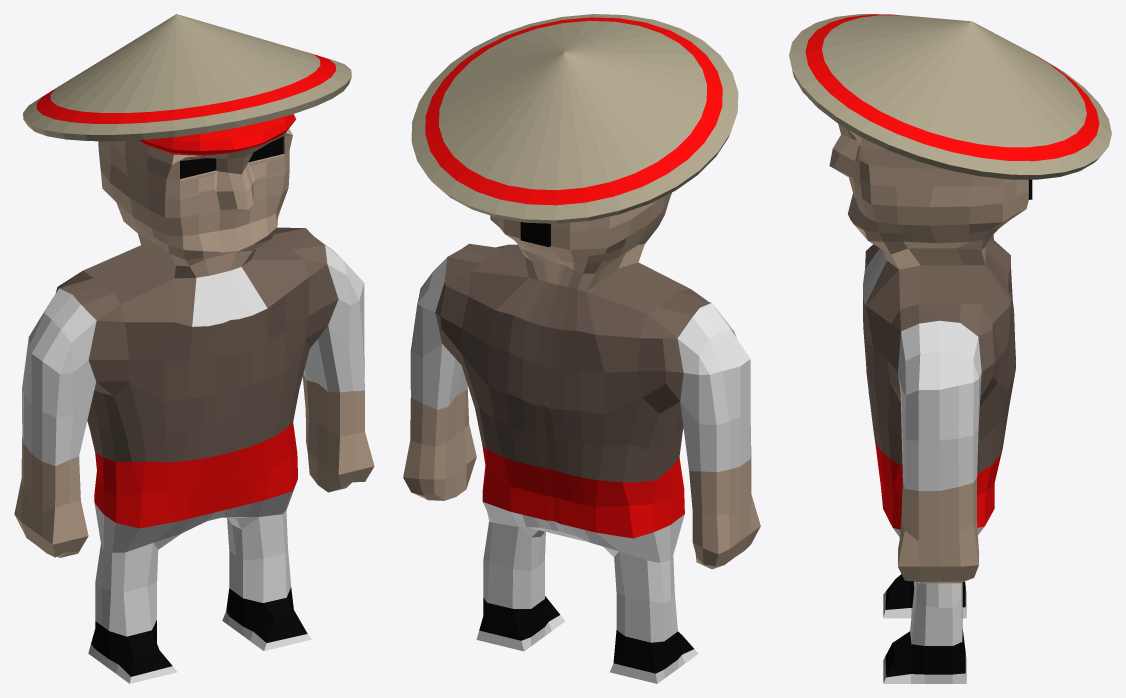
File: Blood 1.fbx
3 renders of one model, left to right at view 1: azimuth 30°, elevation 25°; view 2: azimuth 150°, elevation 25°; view 3: azimuth 270°, elevation 25°, orthographic.
Parts seen in each view (by area): view 1: HeavensMandate; view 2: HeavensMandate; view 3: HeavensMandate.
Part boxes in pixels (<box>): HeavensMandate: <box>14,14,374,683</box>; HeavensMandate: <box>403,14,760,683</box>; HeavensMandate: <box>789,14,1111,683</box>.
Size of the model in its own units: 335 by 612 by 290.
